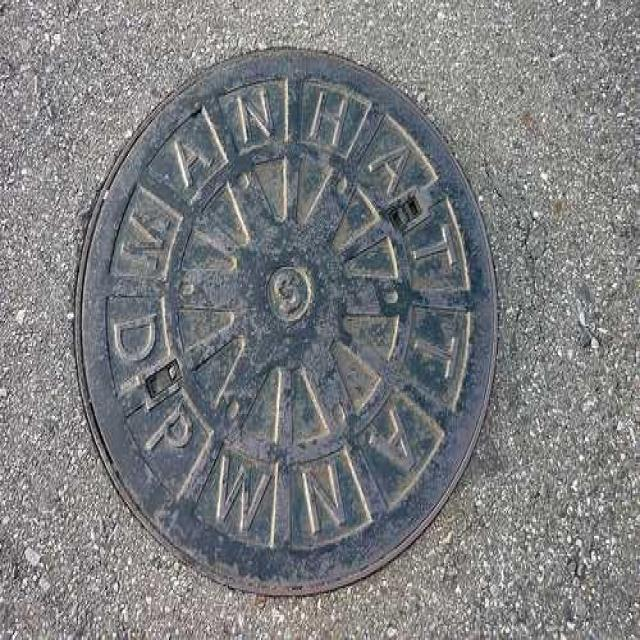manhole: (75, 49, 496, 594)
